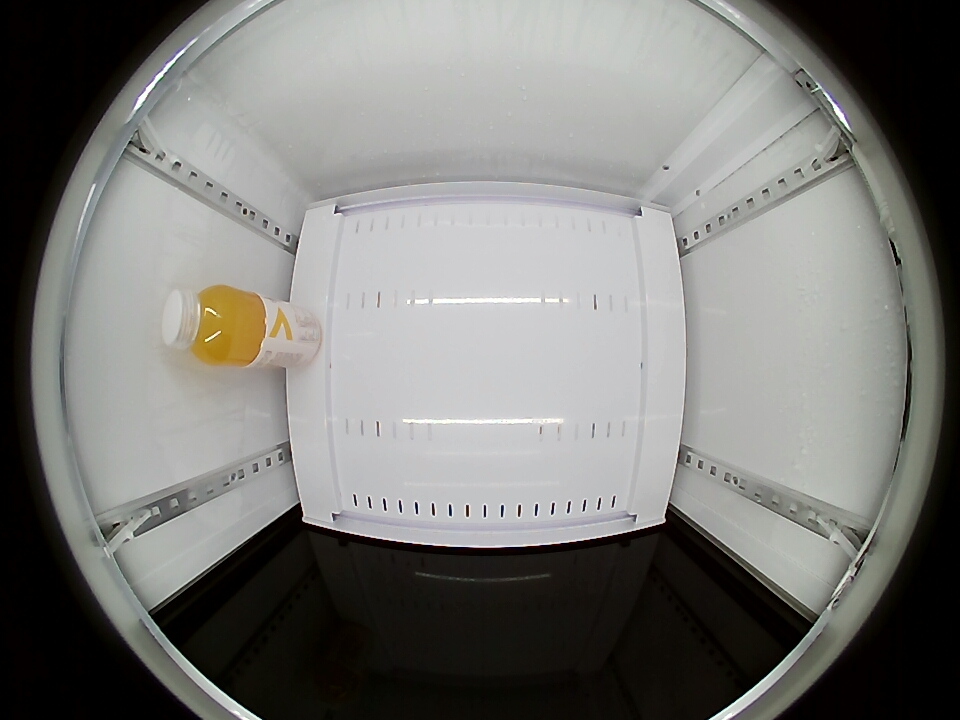weic: (159, 284, 269, 367)
